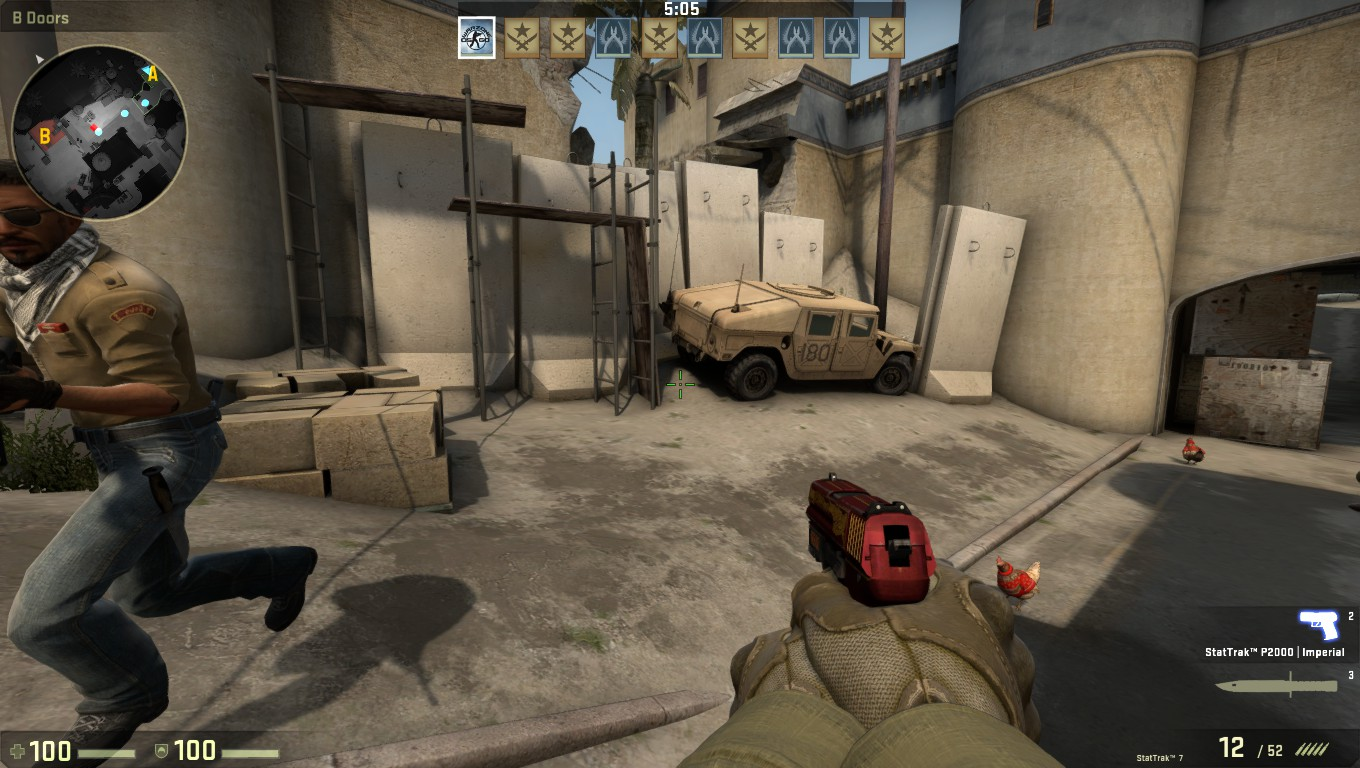t: (1, 141, 233, 762)
th: (1, 146, 91, 272)
